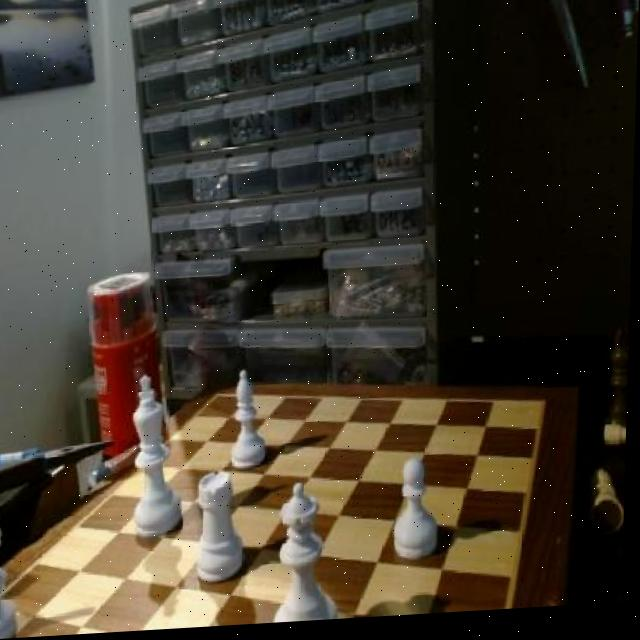black-rook: (230, 370, 270, 479)
white-bishop: (135, 371, 183, 546)
white-king: (0, 512, 28, 640)
white-knight: (393, 457, 444, 570)
white-pawn: (276, 483, 344, 625)
white-queen: (197, 474, 244, 593)
